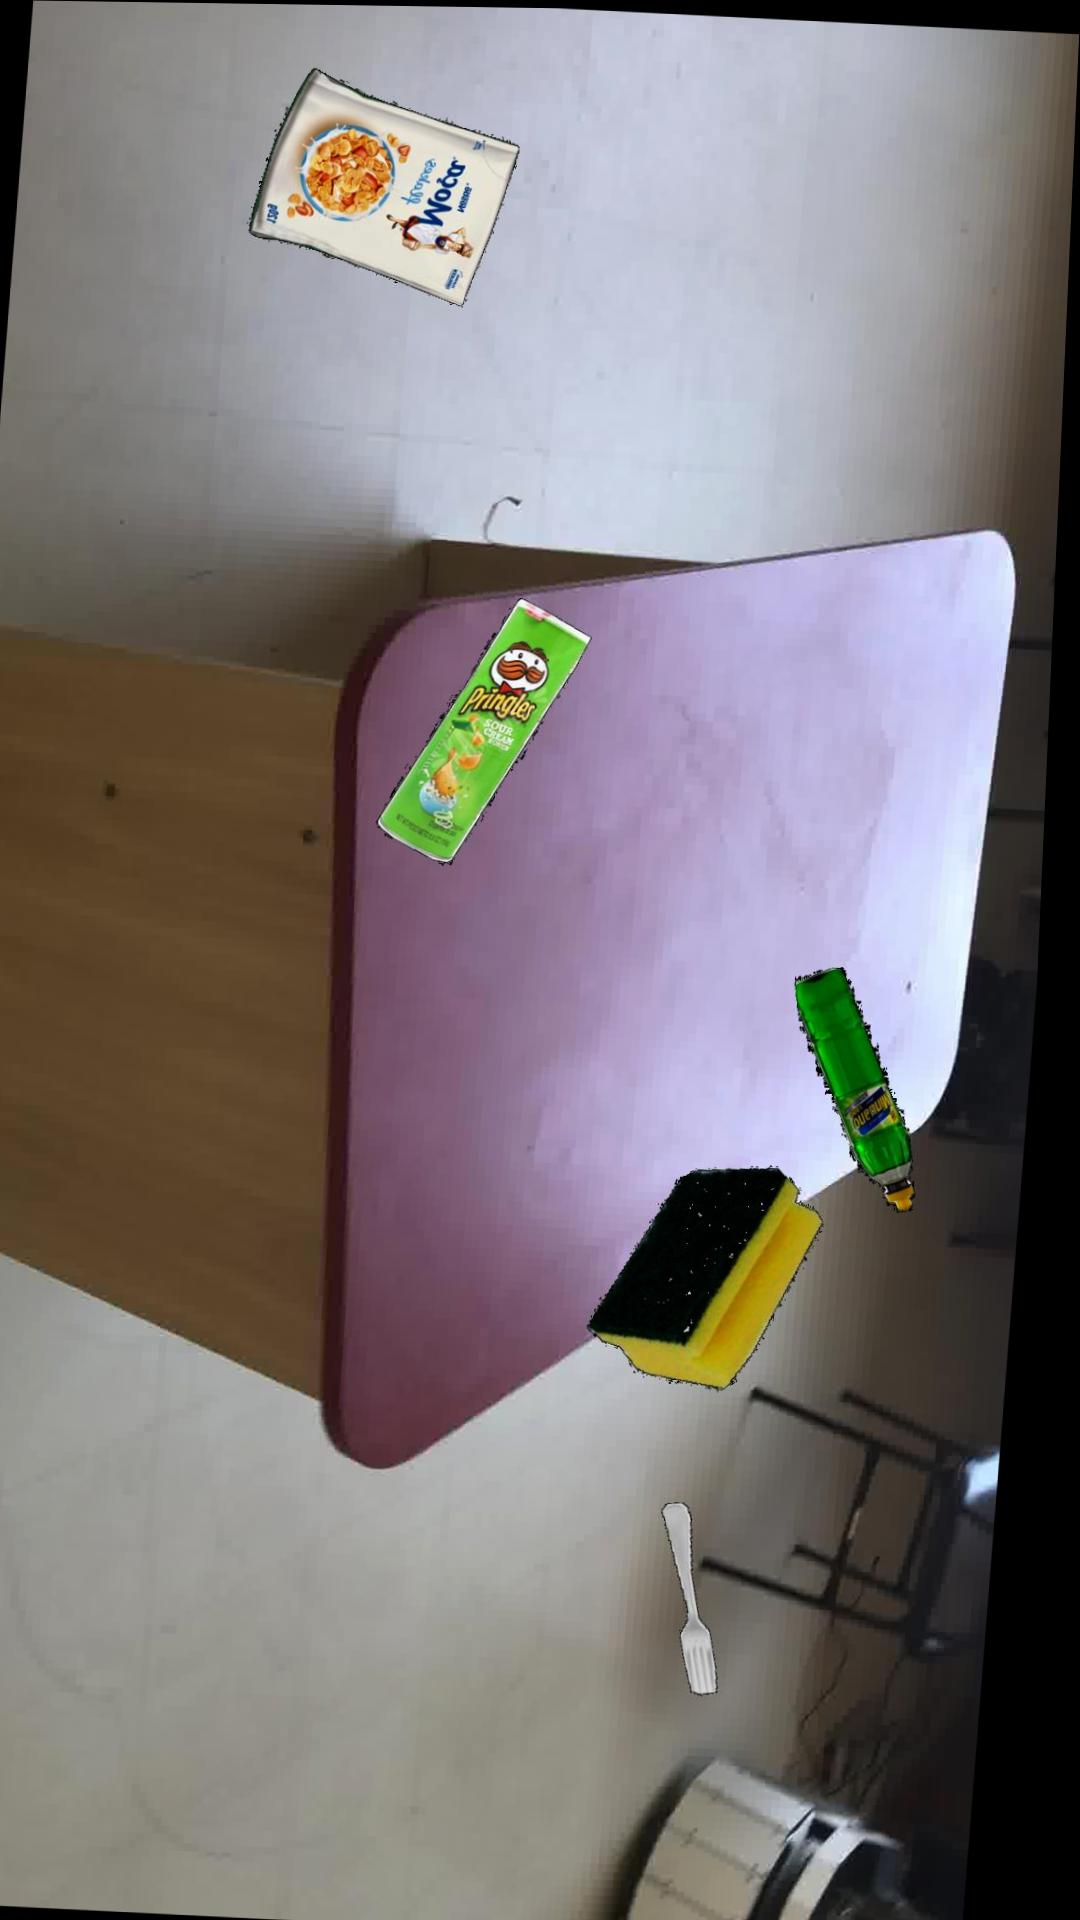cleaner: (802, 963, 924, 1208)
corn flakes: (249, 66, 520, 303)
fork: (674, 1499, 732, 1692)
pringles: (382, 595, 596, 862)
sponge: (599, 1163, 832, 1386)
